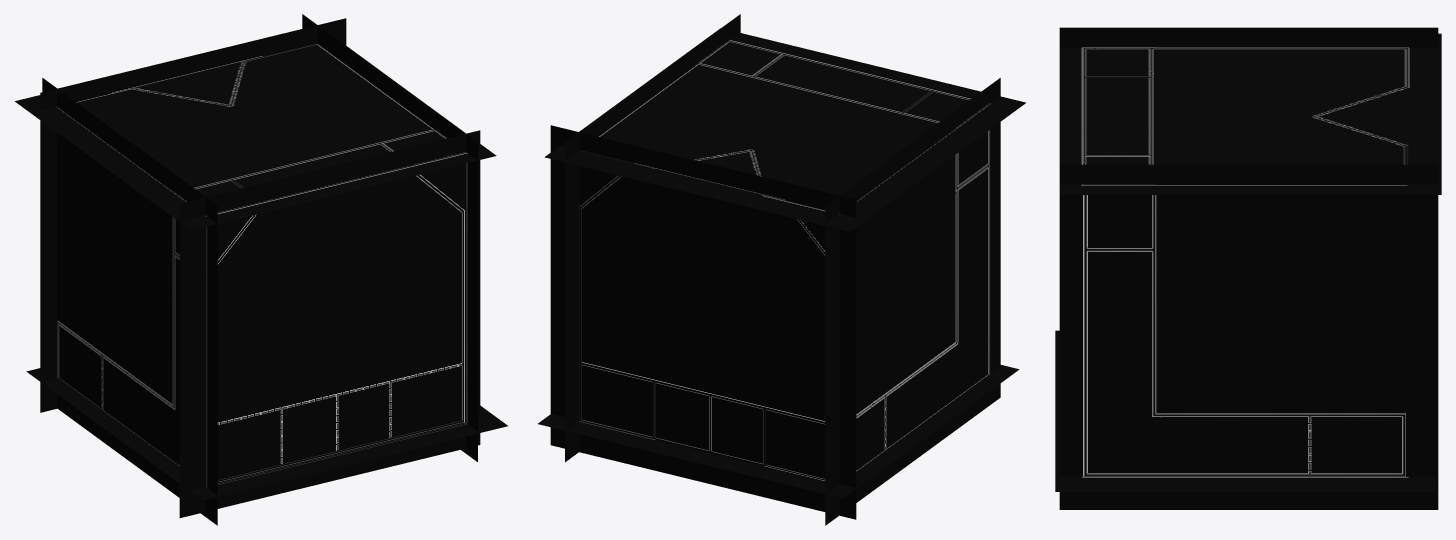
Rendered from N1_full_fix.fbx.
3 views of the same model, side by side, from view 1: azimuth 30°, elevation 25°; view 2: azimuth 150°, elevation 25°; view 3: azimuth 270°, elevation 25° (orthographic). The views are drawn at different scales.
Parts seen in each view (by area): view 1: N1_Traseira_Final, N1_LD_arrumado_Final, N1_Superior_Final, N1_Frontal_Final, N1_Inferior_Final, N1_LE_arrumado_Final; view 2: N1_Frontal_Final, N1_LD_arrumado_Final, N1_Superior_Final, N1_LE_arrumado_Final, N1_Inferior_Final; view 3: N1_LE_arrumado_Final, N1_Superior_Final, N1_LD_arrumado_Final, N1_Inferior_Final.
Boxes of the visible parts, box(x1,y1,x2,y2) form: N1_Traseira_Final: box(179, 130, 480, 517); N1_LD_arrumado_Final: box(42, 78, 217, 525); N1_Superior_Final: box(15, 38, 496, 230); N1_Frontal_Final: box(40, 18, 346, 412); N1_Inferior_Final: box(26, 368, 507, 500); N1_LE_arrumado_Final: box(302, 14, 477, 461); N1_Frontal_Final: box(550, 125, 856, 519); N1_LD_arrumado_Final: box(825, 78, 1000, 525); N1_Superior_Final: box(544, 28, 1025, 231); N1_LE_arrumado_Final: box(565, 14, 740, 462); N1_Inferior_Final: box(538, 365, 1019, 498); N1_LE_arrumado_Final: box(1059, 164, 1438, 509); N1_Superior_Final: box(1060, 33, 1441, 194); N1_LD_arrumado_Final: box(1059, 27, 1438, 164); N1_Inferior_Final: box(1055, 330, 1436, 491).
Bounding box in the file's own units: 103 × 100 × 101.
